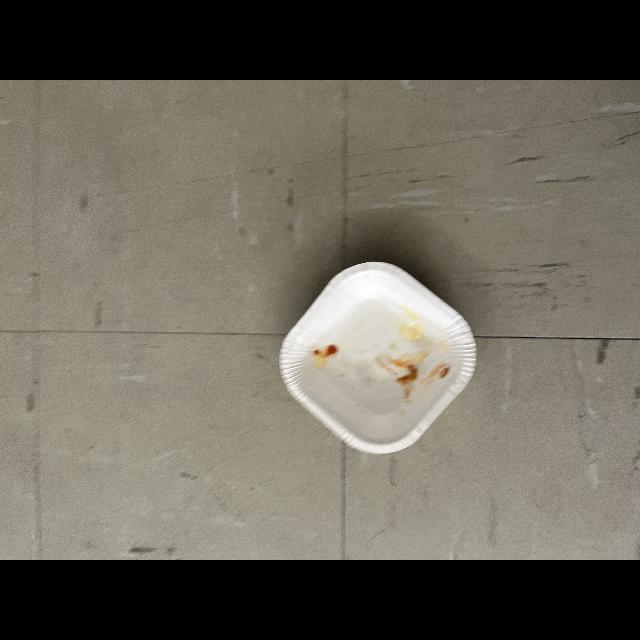cardboard_bowl: (268, 252, 486, 460)
